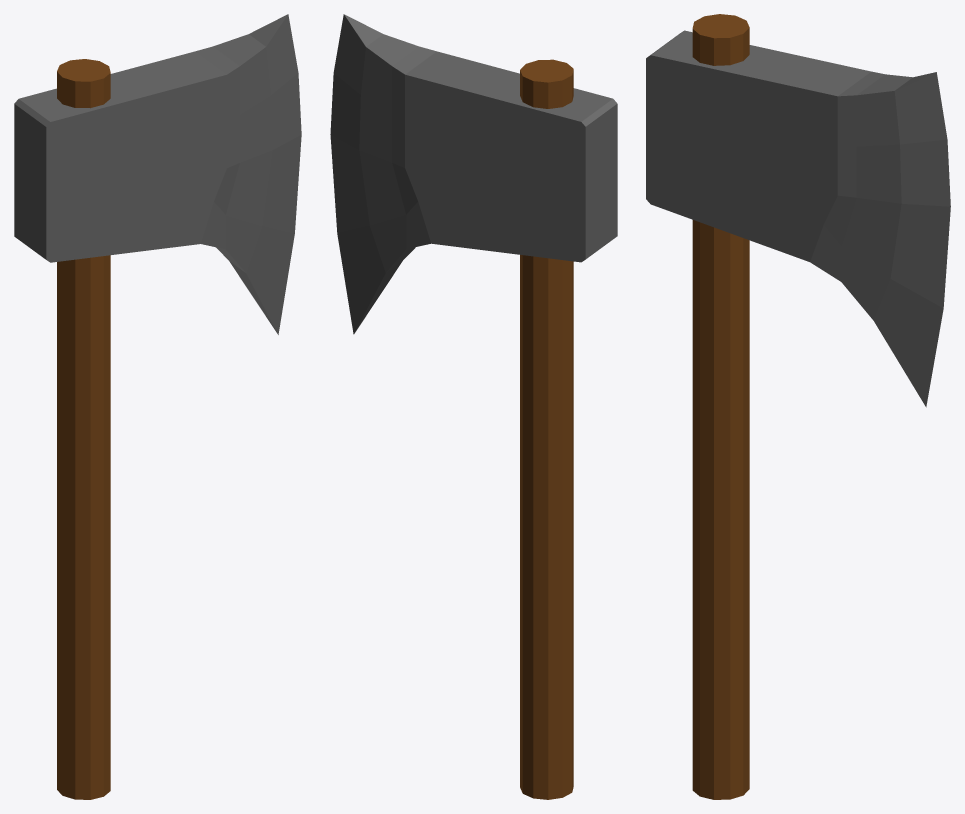
File: Hacha.fbx
The picture shows the model from 3 angles, left to right: view 1: azimuth 30°, elevation 25°; view 2: azimuth 150°, elevation 25°; view 3: azimuth 330°, elevation 25°; orthographic projection. The views are drawn at different scales.
Parts seen in each view (by area): view 1: Cube, Cylinder; view 2: Cube, Cylinder; view 3: Cube, Cylinder.
Part boxes in pixels (left/top/right/bottom): Cube: left=14, top=14, right=301, bottom=334; Cylinder: left=57, top=59, right=110, bottom=799; Cube: left=330, top=14, right=617, bottom=334; Cylinder: left=520, top=59, right=573, bottom=799; Cube: left=646, top=30, right=950, bottom=407; Cylinder: left=692, top=14, right=749, bottom=799.
Bounding box in the file's own units: 50.11 × 128 × 10.2.
